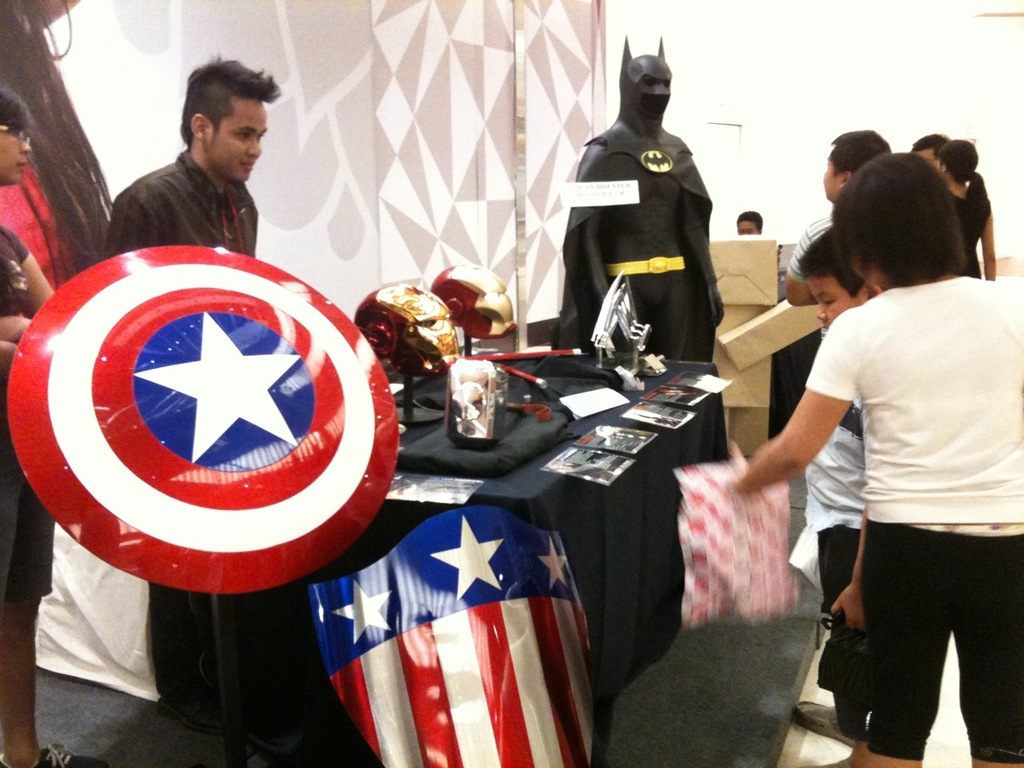Person: (0, 34, 1024, 768)
